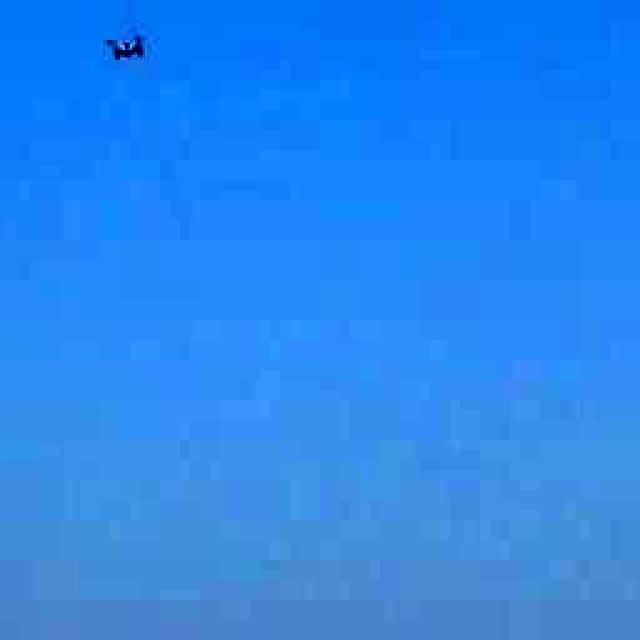bird: (94, 2, 159, 85)
